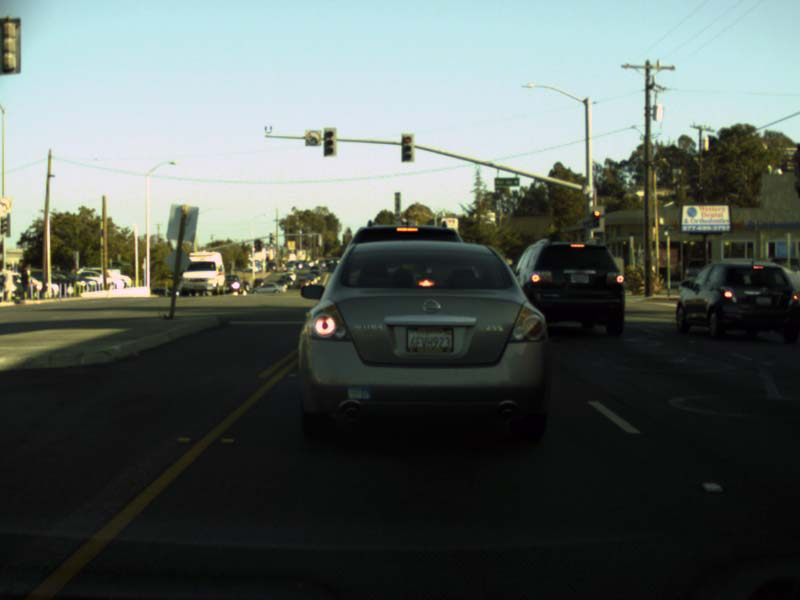Red: (592, 210, 599, 225)
